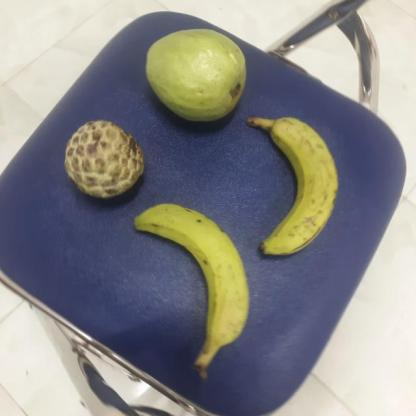annona: (59, 120, 144, 200)
banana: (130, 204, 248, 358), (246, 114, 340, 255)
guava: (142, 27, 247, 124)
